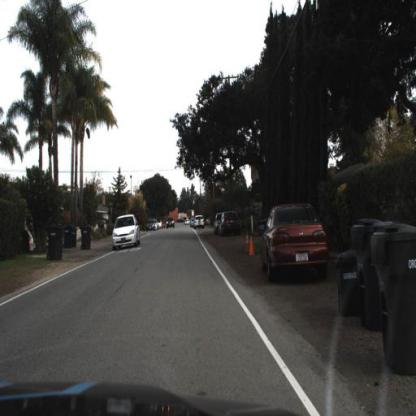car: (258, 202, 333, 280), (264, 202, 330, 278), (111, 215, 143, 253), (111, 215, 141, 249), (219, 212, 243, 239), (195, 214, 207, 230), (166, 216, 177, 231)
